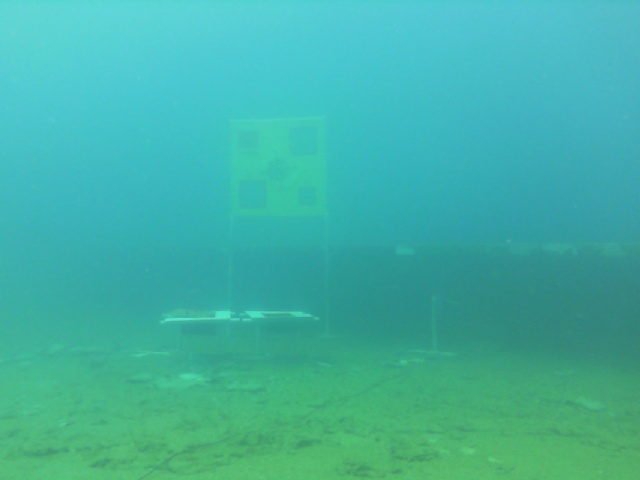torpedo_hole: (289, 129, 317, 155), (240, 181, 265, 208), (240, 129, 258, 146), (299, 189, 315, 206)
torpedo_target: (231, 116, 329, 217)
